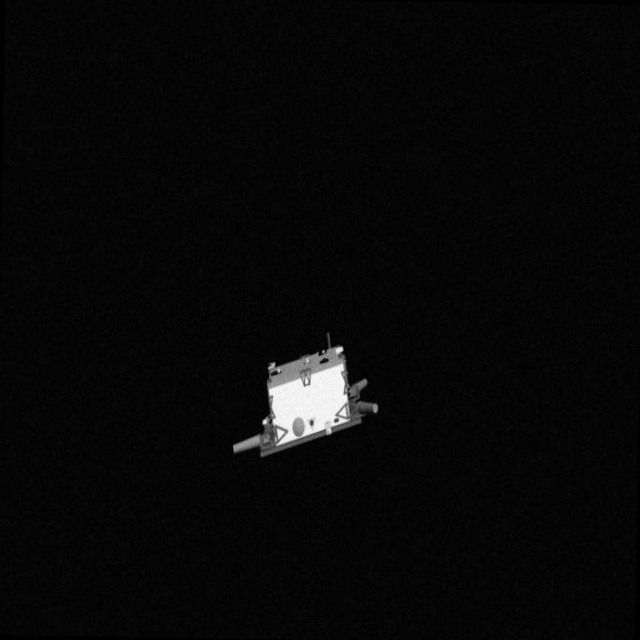medium_debris: (232, 319, 380, 465)
